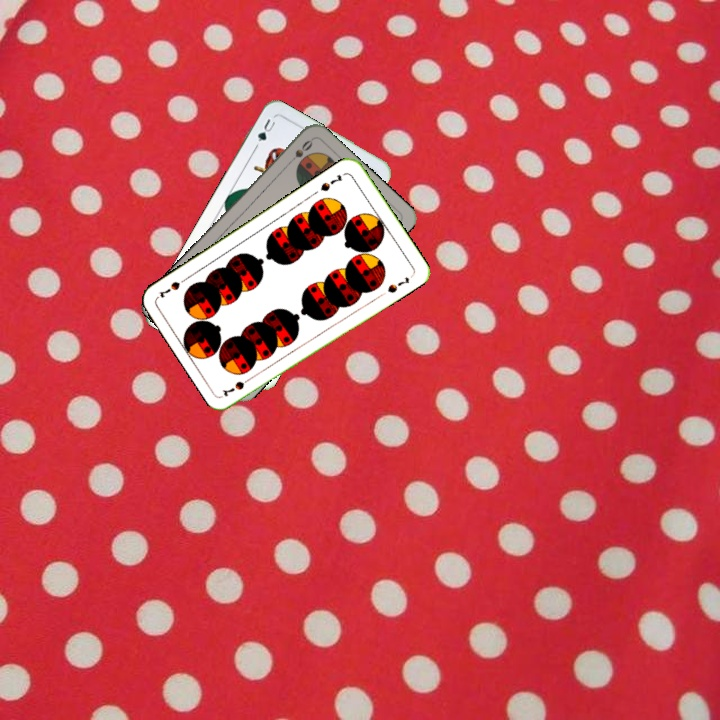GU: (251, 115, 278, 150)
S7: (219, 372, 256, 399), (316, 170, 345, 194)
SO: (283, 135, 315, 168)
